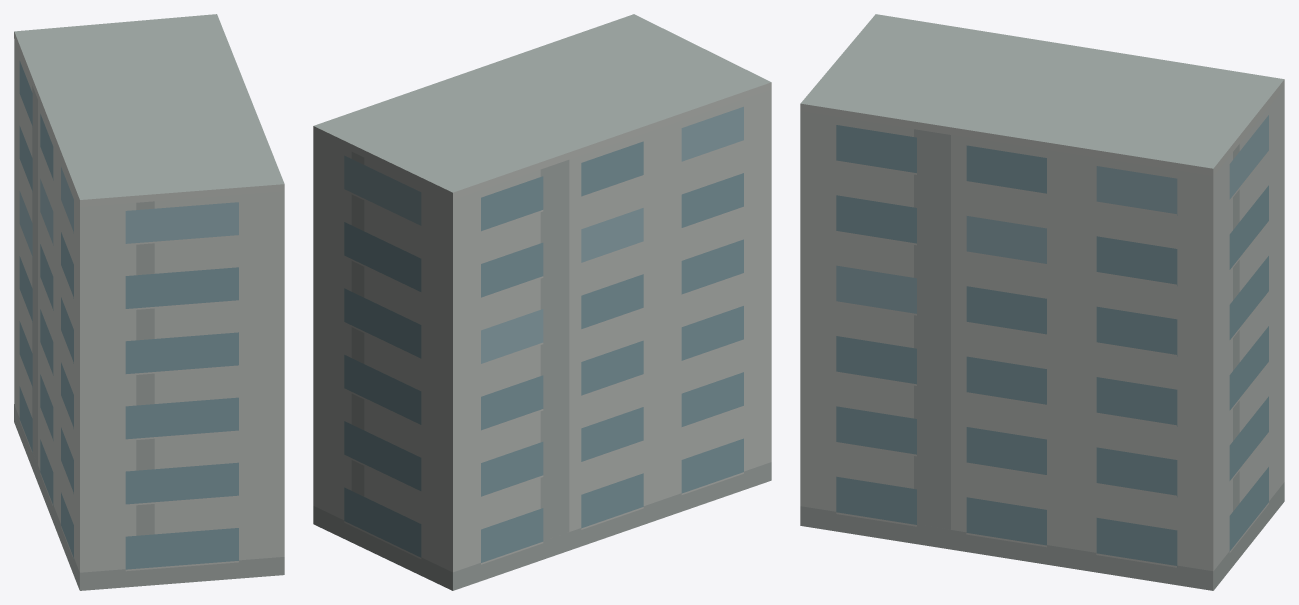
The model's file is survey-upis-32893540.glb.
3 renders of one model, left to right at view 1: azimuth 30°, elevation 25°; view 2: azimuth 150°, elevation 25°; view 3: azimuth 270°, elevation 25°, orthographic. The views are drawn at different scales.
Visible parts, largest first — view 1: survey-upis-32893540.tmp; view 2: survey-upis-32893540.tmp; view 3: survey-upis-32893540.tmp.
Part boxes in pixels (x1=…): survey-upis-32893540.tmp: x1=14, y1=14, x2=284, y2=590; survey-upis-32893540.tmp: x1=313, y1=14, x2=771, y2=590; survey-upis-32893540.tmp: x1=800, y1=14, x2=1284, y2=590.
Size of the model in its own units: 10.54 by 13.4 by 13.94.
